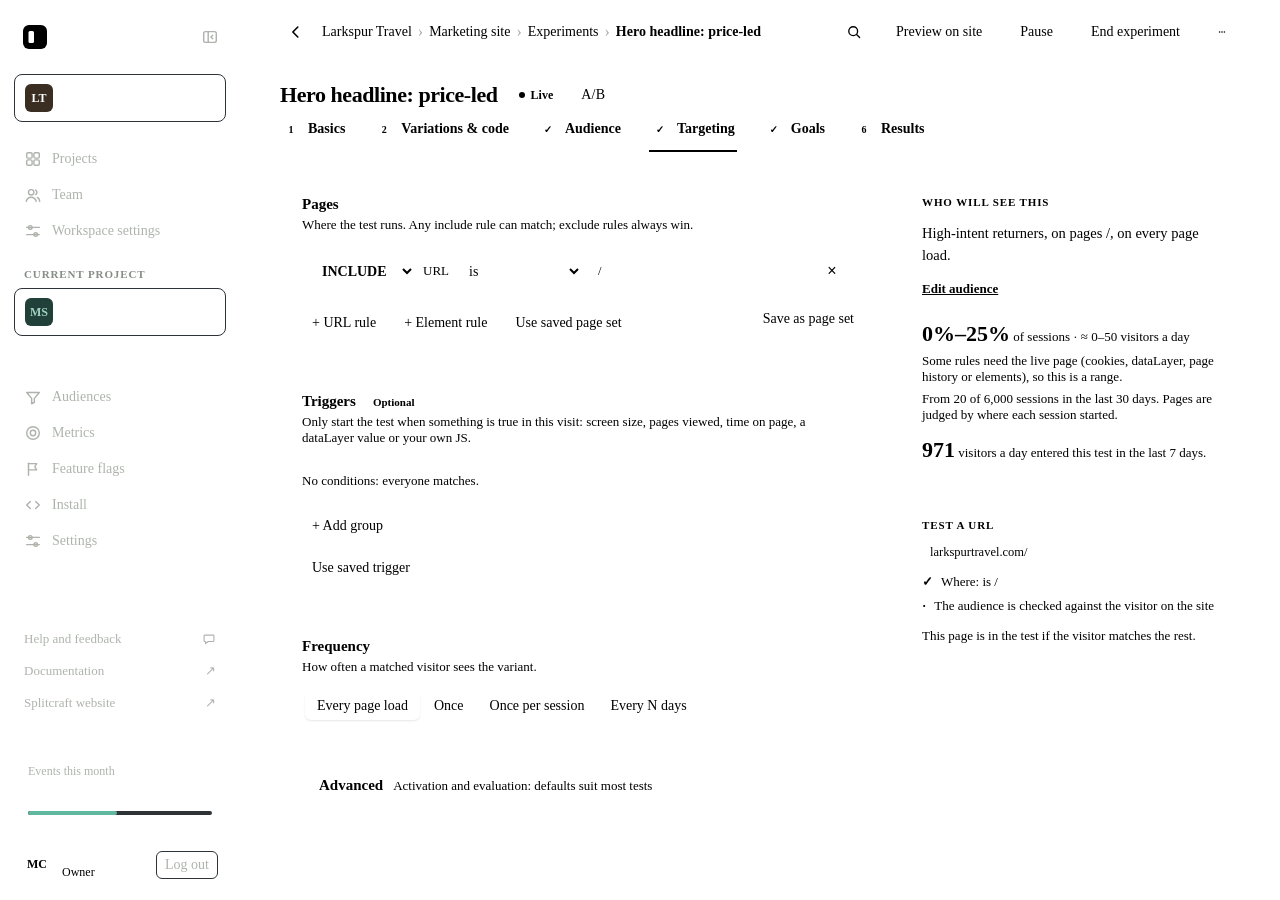
targeting › removes rules
Check: the heading "Pages" is shown, box [302, 196, 339, 212]
Click the button named "Remove Page rule 1". click: coordinates (832, 271)
box: [818, 257, 846, 285]
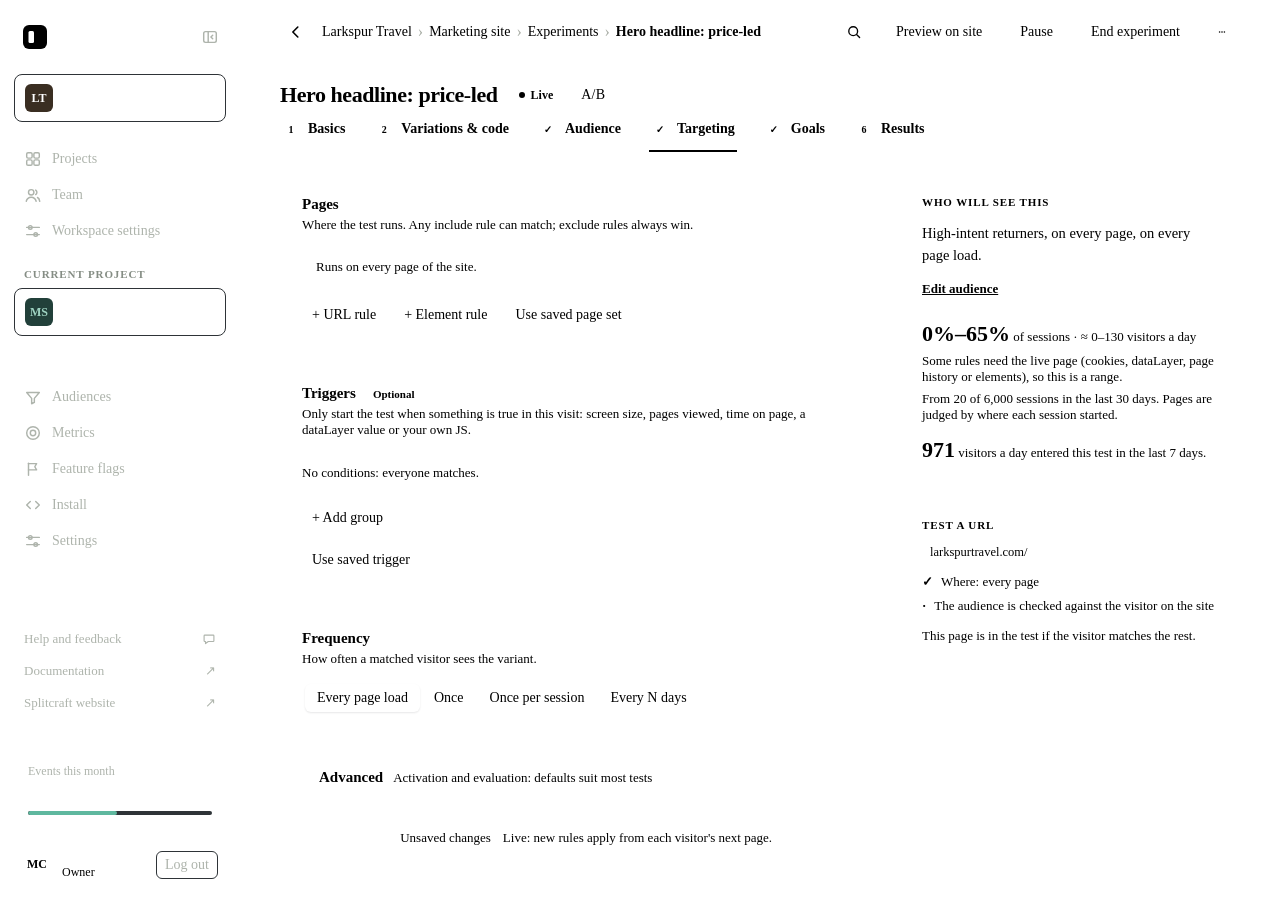
Check: the link "Edit audience" is shown, box [922, 281, 998, 296]
Check: the text "High-intent returners, on every page, on every page load." is shown, box [922, 222, 1218, 267]
